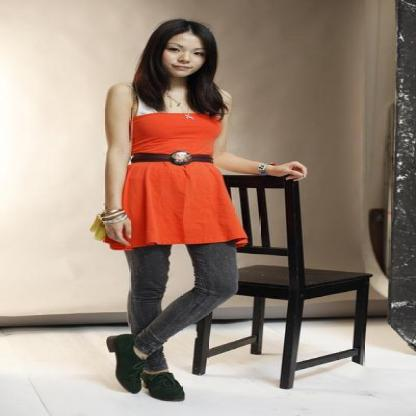dress: (103, 108, 236, 252)
pants: (112, 238, 248, 374)
shoe: (90, 326, 184, 400)
